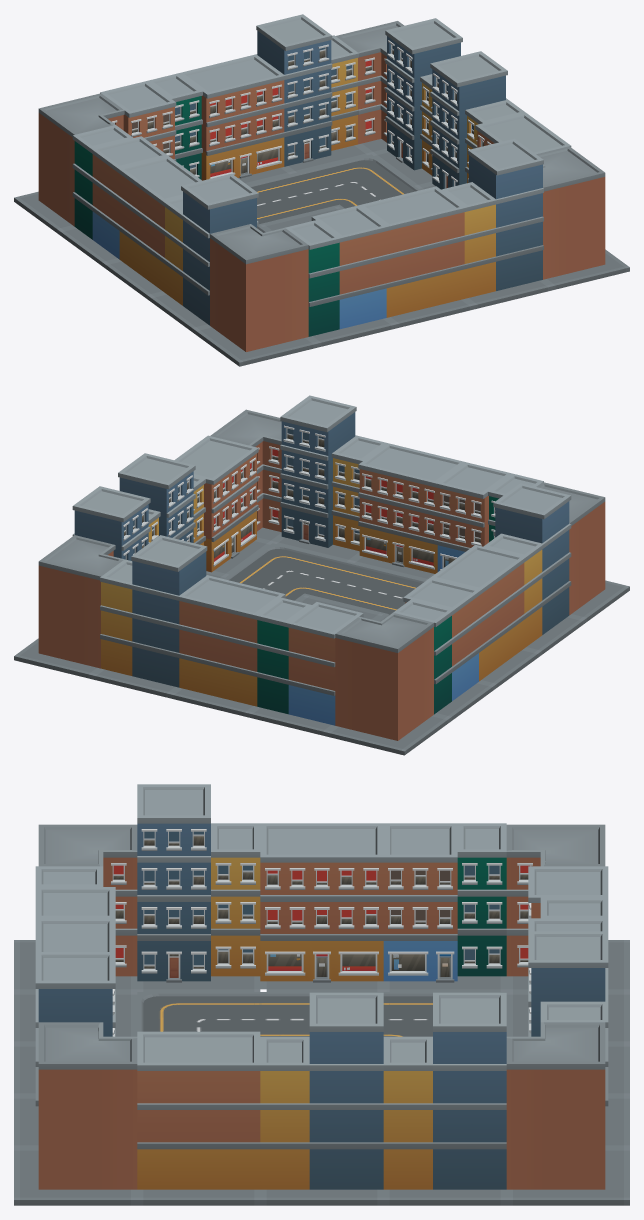
File: city.glb
The picture shows the model from 3 angles, top to bottom: view 1: azimuth 30°, elevation 25°; view 2: azimuth 150°, elevation 25°; view 3: azimuth 270°, elevation 25°; orthographic projection. The views are drawn at different scales.
Visible parts, largest first — view 1: BuildingCorner_B.002, FullBuilding_A.004, FullBuilding_A.002, FullBuilding_B.003, FullBuilding_C.002, FullBuilding_B.001, FullBuilding_A.003, BuildingCorner_B, FullBuilding_A, FullBuilding_A.001, FullBuilding_C.001, FullBuilding_B.002 (+7 smaller); view 2: BuildingCorner_B.003, FullBuilding_A.004, FullBuilding_A.002, FullBuilding_B.001, FullBuilding_C, FullBuilding_B.003, FullBuilding_A.003, BuildingCorner_B.001, FullBuilding_B, FullBuilding_B.002, FullBuilding_C.001, FullBuilding_C.002 (+6 smaller); view 3: FullBuilding_A.001, FullBuilding_A, FullBuilding_A.003, FullBuilding_B, FullBuilding_C.001, FullBuilding_B.002, BuildingCorner_B, BuildingCorner_B.001, FullBuilding_A.002, BuildingCorner_B.002, BuildingCorner_B.003, FullBuilding_A.004 (+7 smaller).
Part boxes in pixels (<box>): BuildingCorner_B.002: <box>194,224,317,366</box>; FullBuilding_A.004: <box>441,138,551,309</box>; FullBuilding_A.002: <box>256,14,370,173</box>; FullBuilding_B.003: <box>359,186,473,328</box>; FullBuilding_C.002: <box>285,205,395,347</box>; FullBuilding_B.001: <box>178,54,292,184</box>; FullBuilding_A.003: <box>149,173,258,333</box>; BuildingCorner_B: <box>536,146,629,290</box>; FullBuilding_A: <box>372,18,462,187</box>; FullBuilding_A.001: <box>417,51,525,189</box>; FullBuilding_C.001: <box>59,125,167,267</box>; FullBuilding_B.002: <box>104,156,201,300</box>; BuildingCorner_B.003: <box>326,612,449,755</box>; FullBuilding_A.004: <box>273,395,387,562</box>; FullBuilding_A.002: <box>92,535,207,698</box>; FullBuilding_B.001: <box>170,575,285,717</box>; FullBuilding_C: <box>248,597,363,736</box>; FullBuilding_B.003: <box>351,443,465,580</box>; FullBuilding_A.003: <box>483,483,584,656</box>; BuildingCorner_B.001: <box>14,535,124,679</box>; FullBuilding_B: <box>174,435,271,575</box>; FullBuilding_B.002: <box>430,545,539,688</box>; FullBuilding_C.001: <box>393,578,494,721</box>; FullBuilding_C.002: <box>436,462,543,571</box>; FullBuilding_A.001: <box>260,992,383,1205</box>; FullBuilding_A: <box>383,992,506,1205</box>; FullBuilding_A.003: <box>137,784,260,991</box>; FullBuilding_B: <box>137,1031,260,1205</box>; FullBuilding_C.001: <box>383,823,506,991</box>; FullBuilding_B.002: <box>260,823,383,991</box>; BuildingCorner_B: <box>14,1022,137,1205</box>; BuildingCorner_B.001: <box>506,1022,629,1205</box>; FullBuilding_A.002: <box>528,931,629,1147</box>; BuildingCorner_B.002: <box>14,824,137,991</box>; BuildingCorner_B.003: <box>506,824,629,991</box>; FullBuilding_A.004: <box>14,952,115,1147</box>.
Bounding box in the file's own units: 50 × 15.25 × 50.
Materials: 25 (25 with a texture image).
